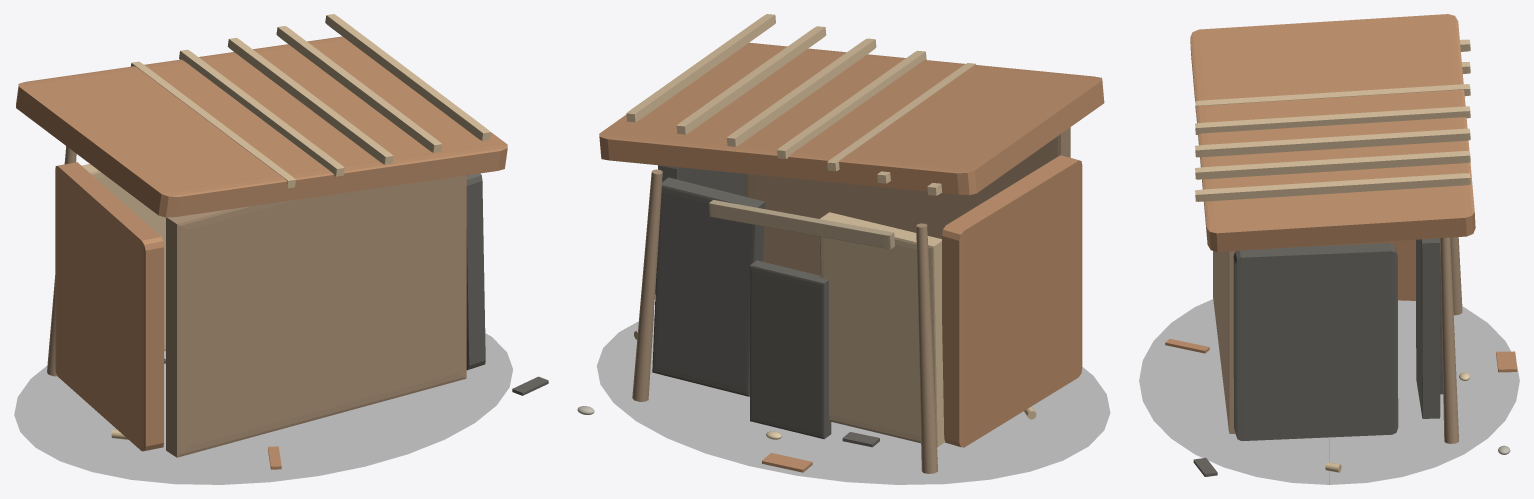
Rendered from wasteland_shack.glb.
3 views of the same model, side by side, from view 1: azimuth 30°, elevation 25°; view 2: azimuth 150°, elevation 25°; view 3: azimuth 270°, elevation 25° (orthographic). The views are drawn at different scales.
Visible parts, largest first — view 1: rear_timber_wall, slumped_sheet_roof, painted_contact_shadow, left_corrugated_wall, right_patchwork_wall, roof_corrugation_5, roof_corrugation_4, roof_corrugation_6, roof_corrugation_3, front_left_panel, roof_corrugation_2, front_support_pole_left; view 2: slumped_sheet_roof, left_corrugated_wall, painted_contact_shadow, front_left_panel, front_right_panel, dark_open_doorway, rear_timber_wall, front_support_pole_left, torn_canvas_strip, front_support_pole_right, roof_corrugation_6, roof_corrugation_4 (+5 smaller); view 3: slumped_sheet_roof, right_patchwork_wall, painted_contact_shadow, front_right_panel, roof_corrugation_4, roof_corrugation_5, roof_corrugation_6, roof_corrugation_3, rear_timber_wall, front_support_pole_right, roof_corrugation_2, left_corrugated_wall (+2 smaller).
Part boxes in pixels (box(x1,y1,x2,y2)): rear_timber_wall: box(166, 175, 466, 457); slumped_sheet_roof: box(16, 36, 507, 217); painted_contact_shadow: box(14, 333, 512, 484); left_corrugated_wall: box(55, 162, 163, 451); right_patchwork_wall: box(466, 173, 485, 370); roof_corrugation_5: box(276, 26, 442, 152); roof_corrugation_4: box(227, 38, 393, 164); roof_corrugation_6: box(325, 14, 490, 140); roof_corrugation_3: box(179, 49, 344, 176); front_left_panel: box(82, 164, 165, 351); roof_corrugation_2: box(131, 61, 295, 188); front_support_pole_left: box(47, 146, 76, 376); slumped_sheet_roof: box(599, 42, 1104, 195); left_corrugated_wall: box(942, 155, 1082, 447); painted_contact_shadow: box(597, 315, 1109, 484); front_left_panel: box(819, 212, 944, 447); front_right_panel: box(652, 177, 765, 396); dark_open_doorway: box(750, 260, 831, 439); rear_timber_wall: box(745, 127, 1070, 275); front_support_pole_left: box(916, 223, 937, 473); torn_canvas_strip: box(709, 200, 894, 249); front_support_pole_right: box(632, 169, 662, 401); roof_corrugation_6: box(626, 14, 775, 122); roof_corrugation_4: box(726, 38, 876, 146); slumped_sheet_roof: box(1190, 14, 1475, 251); right_patchwork_wall: box(1233, 243, 1398, 440); painted_contact_shadow: box(1139, 299, 1519, 484); front_right_panel: box(1416, 238, 1440, 418); roof_corrugation_4: box(1195, 128, 1470, 157); roof_corrugation_5: box(1195, 151, 1470, 179); roof_corrugation_6: box(1195, 173, 1470, 201); roof_corrugation_3: box(1195, 106, 1470, 134); rear_timber_wall: box(1213, 251, 1235, 433); front_support_pole_right: box(1440, 237, 1458, 443); roof_corrugation_2: box(1195, 84, 1470, 112); left_corrugated_wall: box(1307, 239, 1415, 300).
Size of the model in its own units: 2.9 by 1.84 by 2.24.
